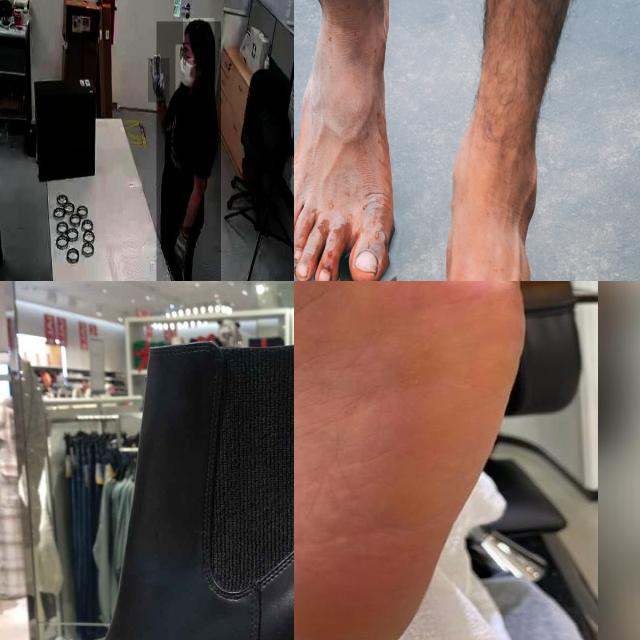Barefoots: (294, 281, 554, 640)
Sandals: (0, 289, 294, 640), (294, 0, 395, 281), (427, 132, 573, 281)
face_mask: (175, 44, 199, 94)
glasses: (176, 43, 188, 69)
hand_glove: (148, 58, 170, 103), (171, 227, 193, 269)
head_nohelmet: (183, 18, 215, 44)
person: (156, 21, 221, 281)
